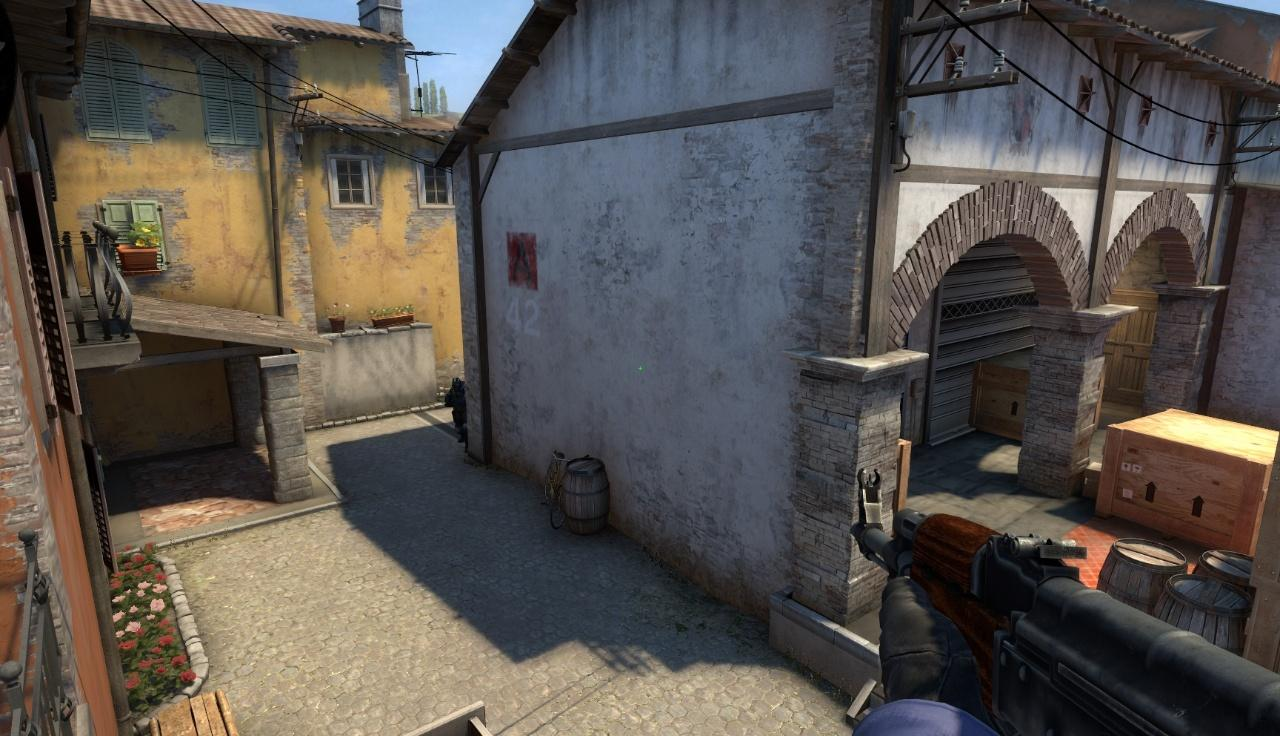ct: (445, 377, 468, 450)
cthead: (452, 378, 461, 391)
rifle: (850, 469, 1280, 733)
